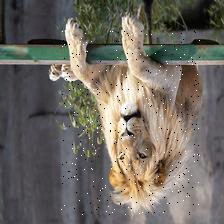Lion: (62, 30, 201, 215)
